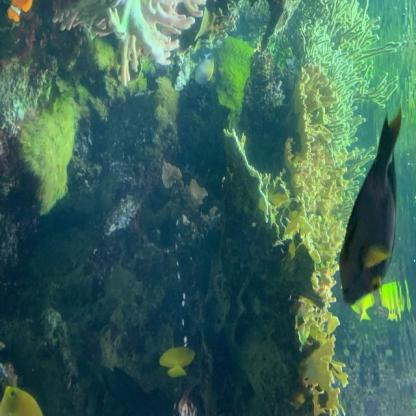fish: (338, 108, 406, 308), (1, 384, 43, 416), (160, 346, 196, 378), (347, 283, 375, 322), (192, 51, 216, 87), (5, 0, 41, 23)
